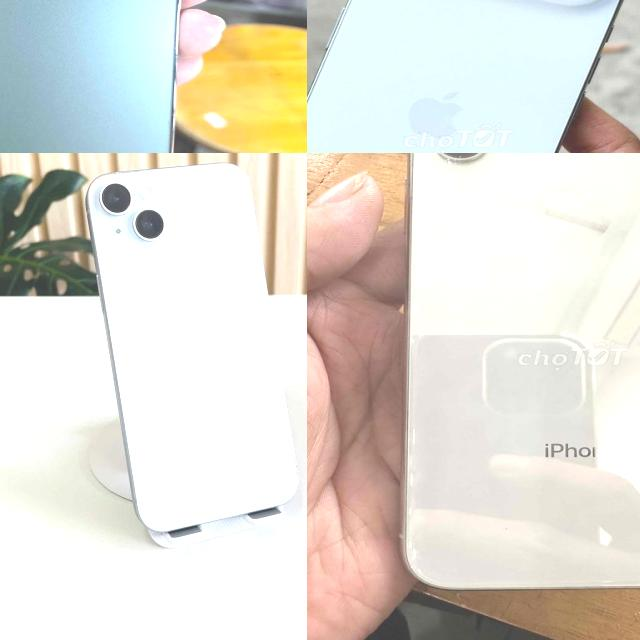gen_12_13: (0, 0, 197, 153)
gen_15: (70, 153, 307, 530)
gen_17: (307, 0, 640, 153)
gen_x_xs: (395, 153, 640, 590)
